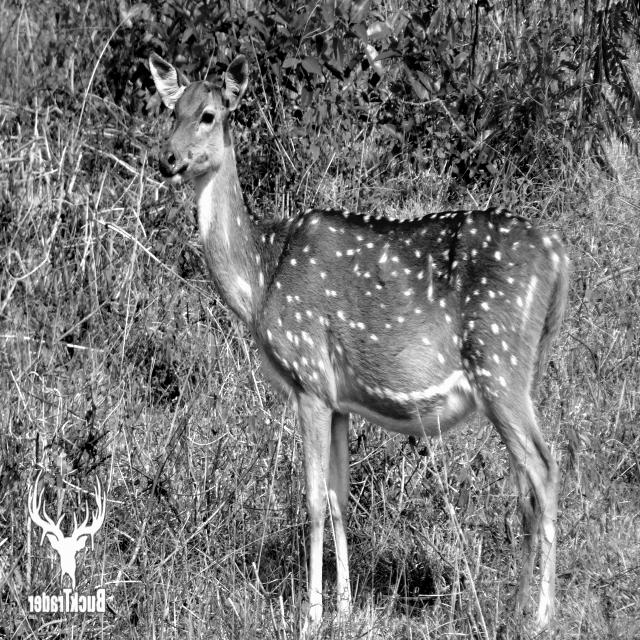deer: (108, 42, 579, 640)
